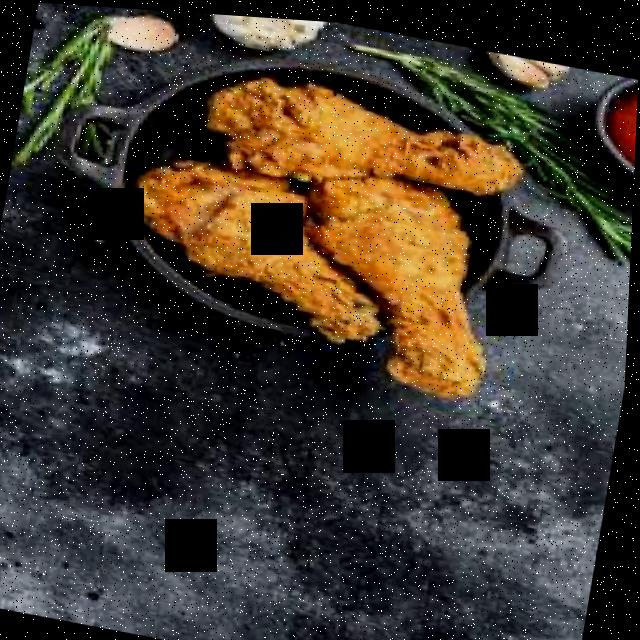Frango: (110, 49, 546, 406)
